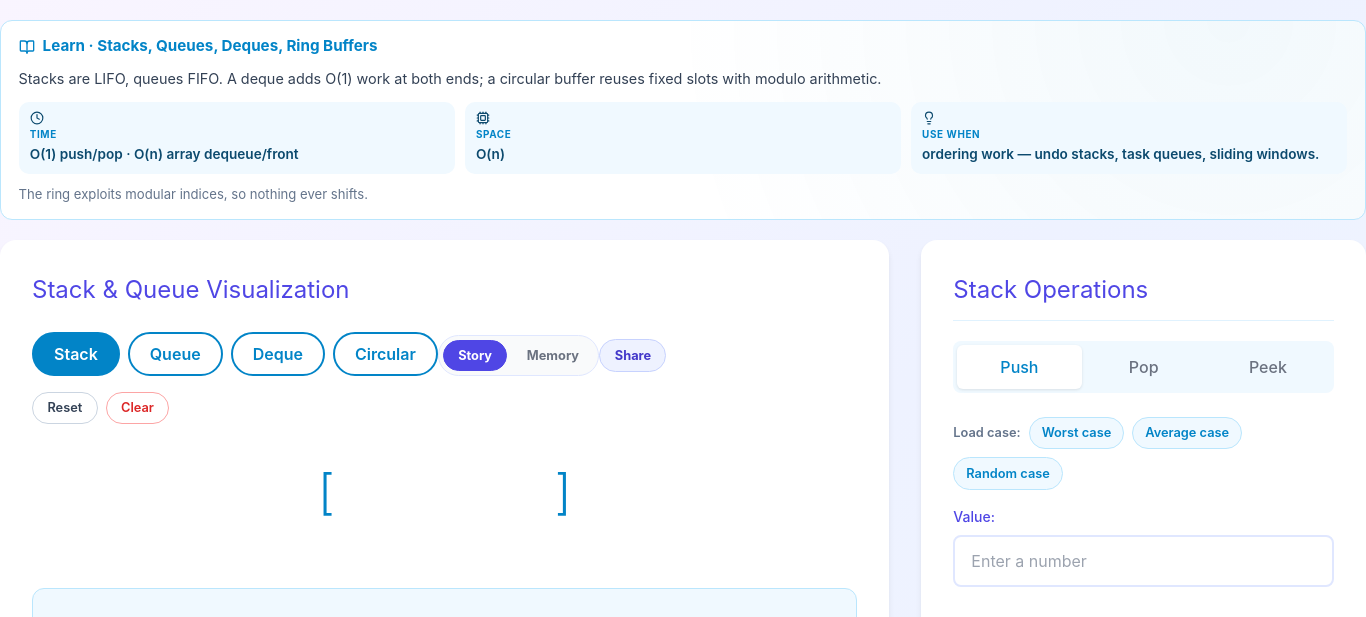
Test: queue operations › dequeuing removes the front and shifts the rest
This screenshot has width=1366, height=617.
Click the button "Queue" at (175, 354), box [128,332,223,376]
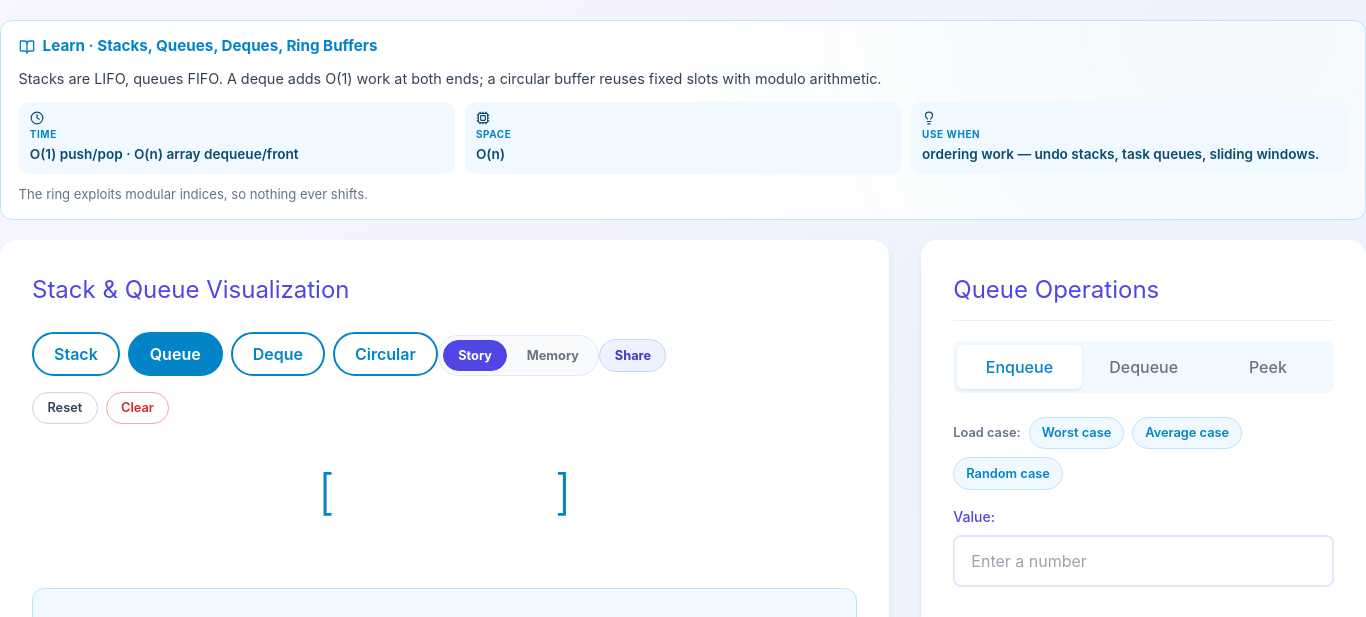
Click the button "Dequeue" at (1144, 367), box [1082,345,1206,389]
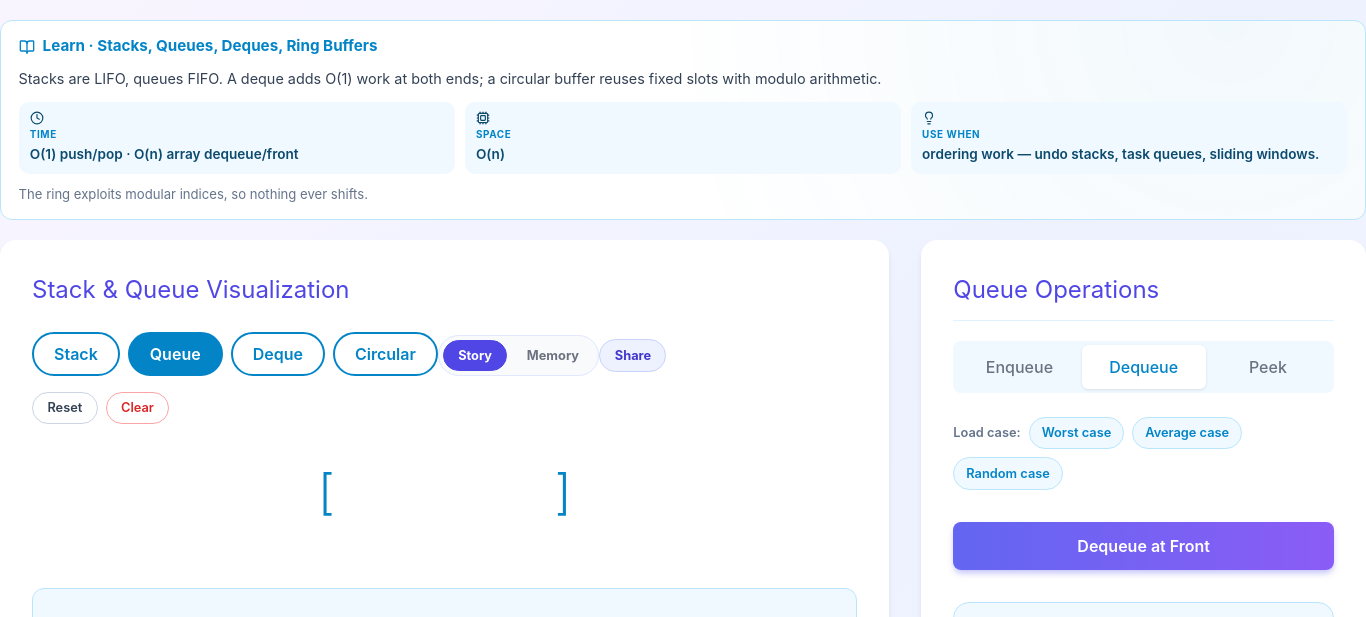
Click the button "Dequeue at Front" at (1144, 546), box [953,522,1334,570]
Wait 30000 ms
(page scrolled)
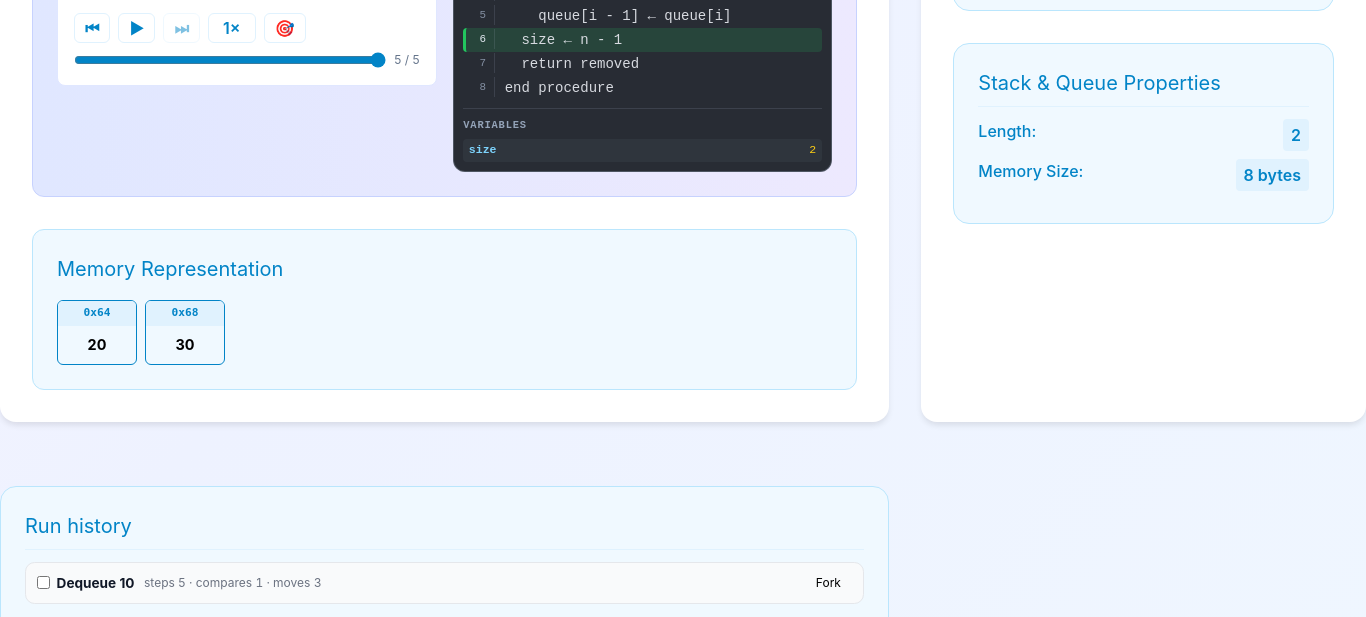
Check: the text "Dequeue 10" is shown, box [57,573,134,593]
